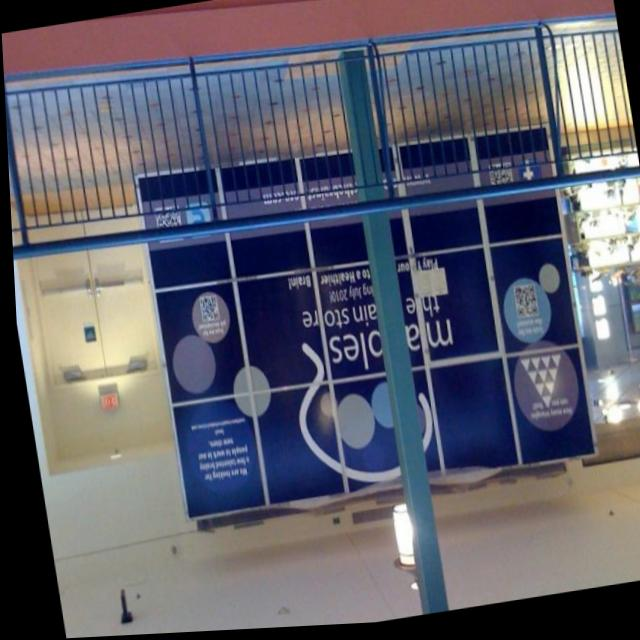qrcode: (511, 291, 534, 322), (154, 210, 178, 231), (488, 170, 509, 191), (196, 299, 214, 323)
